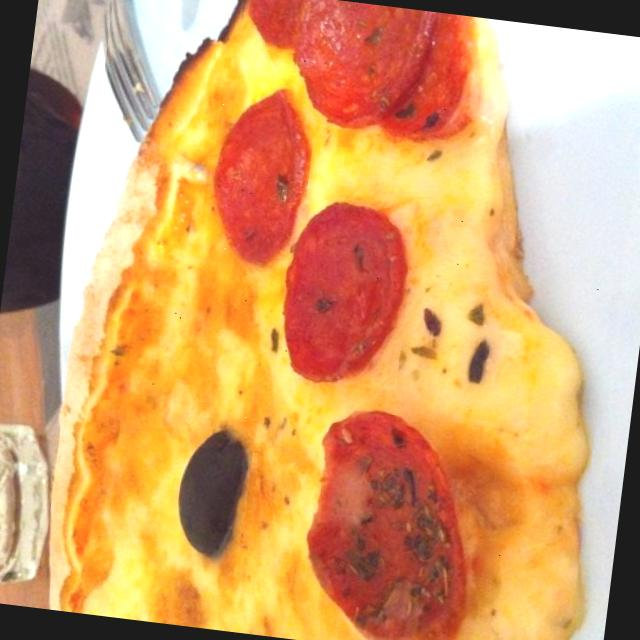Olive: (168, 423, 254, 564)
cheese: (391, 264, 611, 640), (147, 254, 297, 426), (233, 393, 324, 640), (441, 74, 528, 312), (374, 139, 524, 250), (93, 534, 245, 632)
pepperoni: (285, 405, 498, 640), (262, 194, 416, 390), (196, 77, 318, 290), (287, 0, 445, 140), (378, 7, 480, 150), (237, 0, 322, 55)
pizza: (51, 0, 586, 640)
